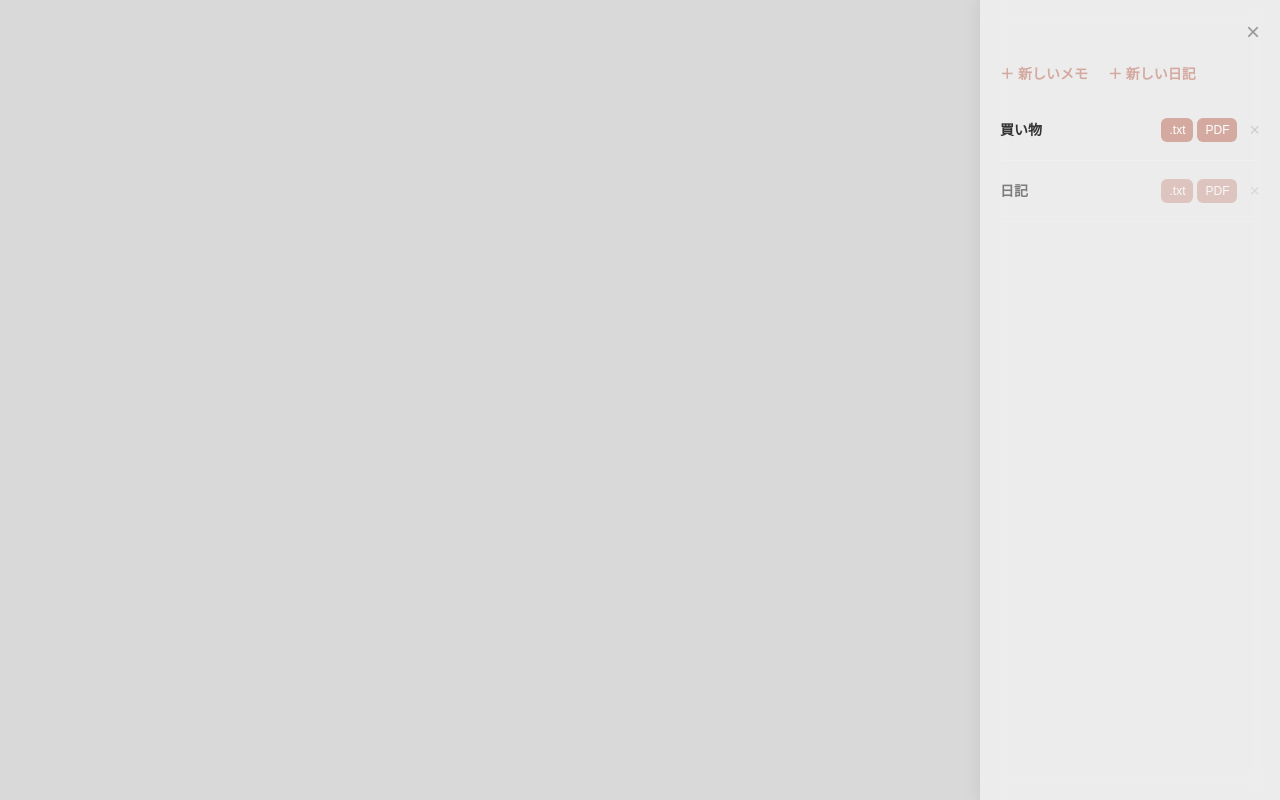
it: Sidebar › 確認をキャンセルすると削除しない
The width and height of the screenshot is (1280, 800).
Click the button named "削除" at (1249, 130), box 1238,121 -> 1260,139
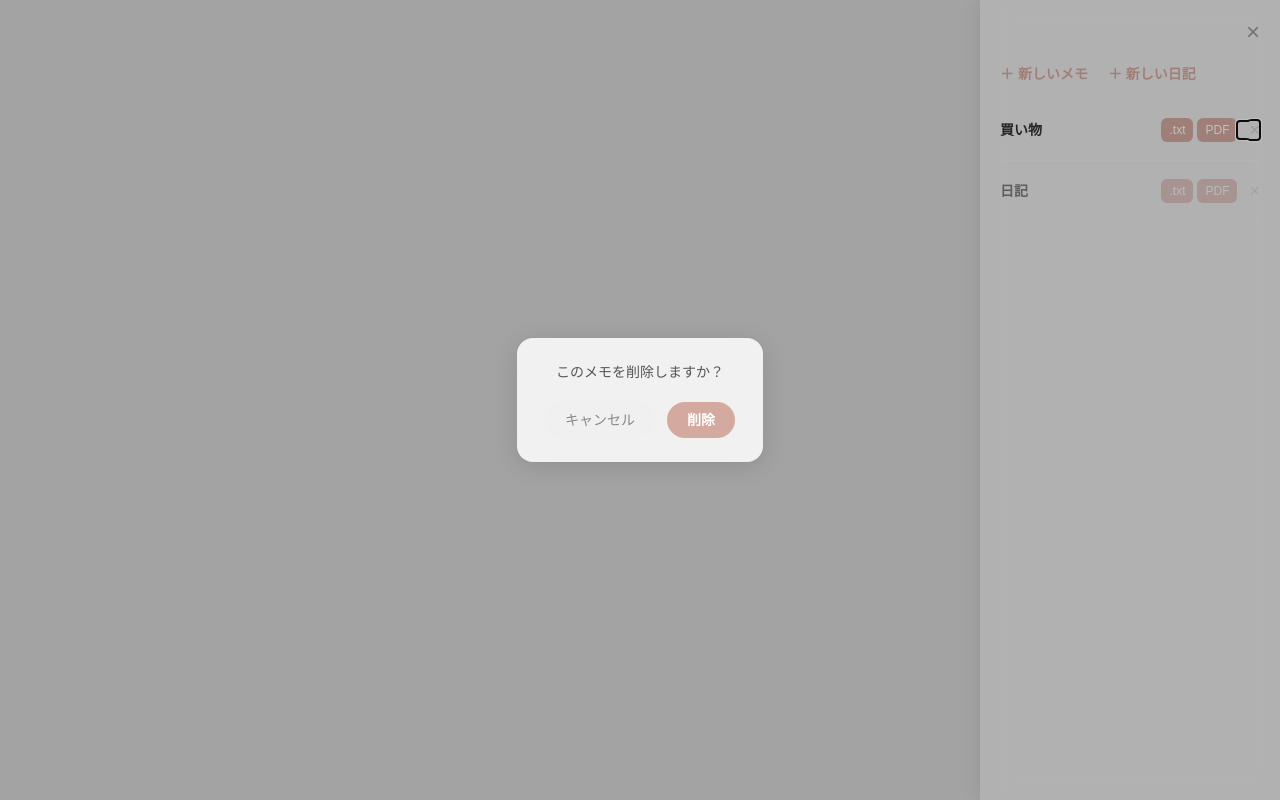
Click the button "キャンセル" at (600, 420), box 545,402 -> 655,438
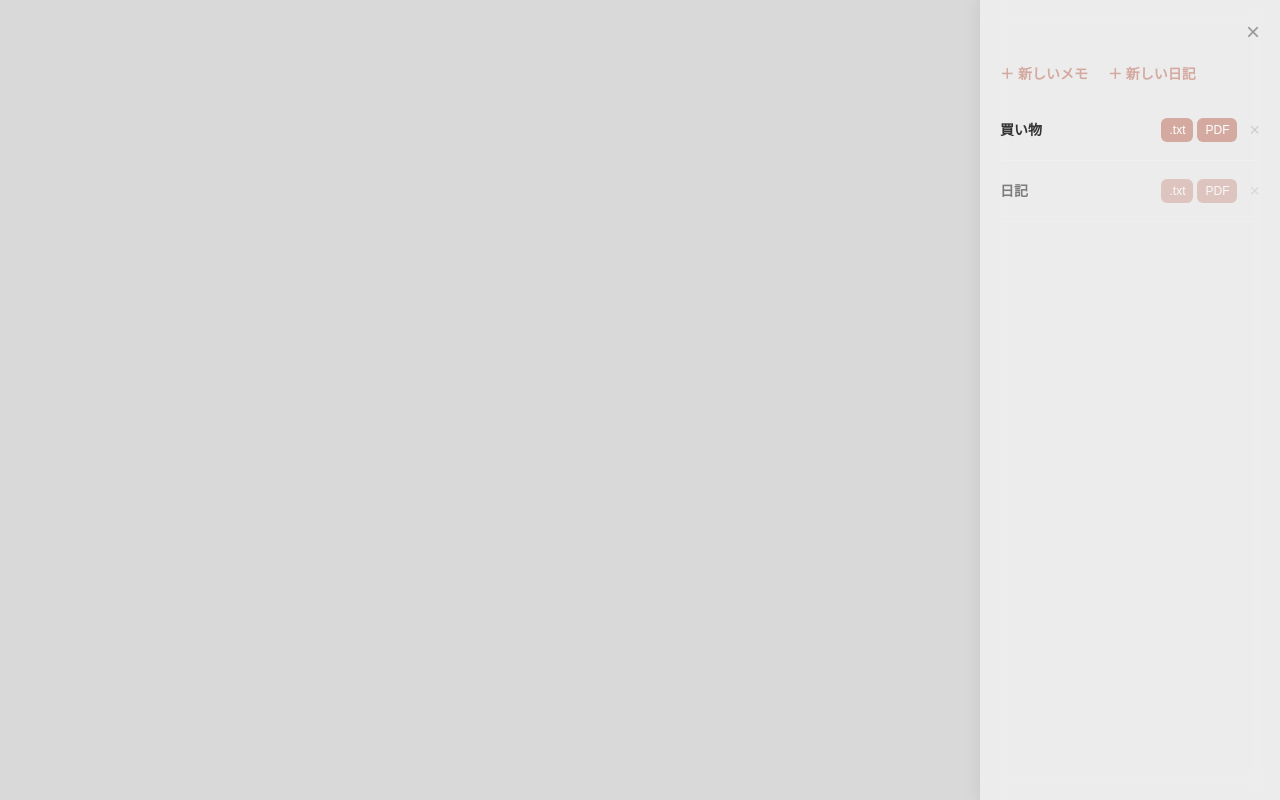
Expected: the text "このメモを削除しますか？" is gone
